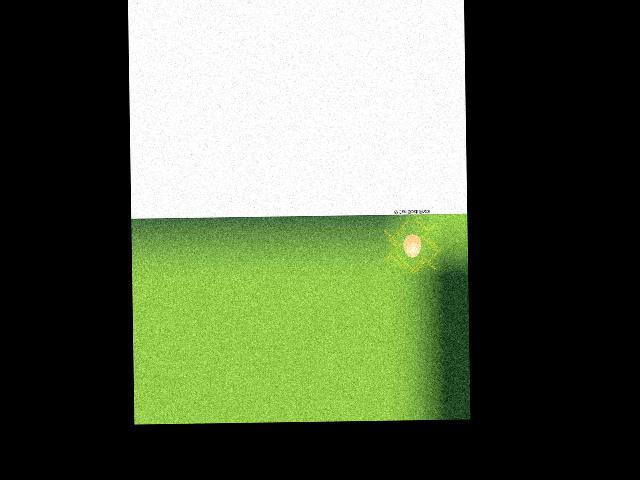egg: (403, 234, 421, 258)
